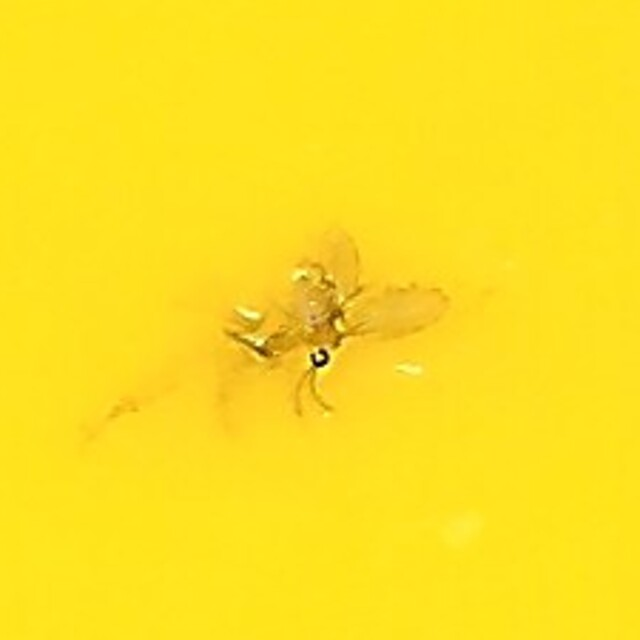Nematocera: (284, 262, 356, 378)
